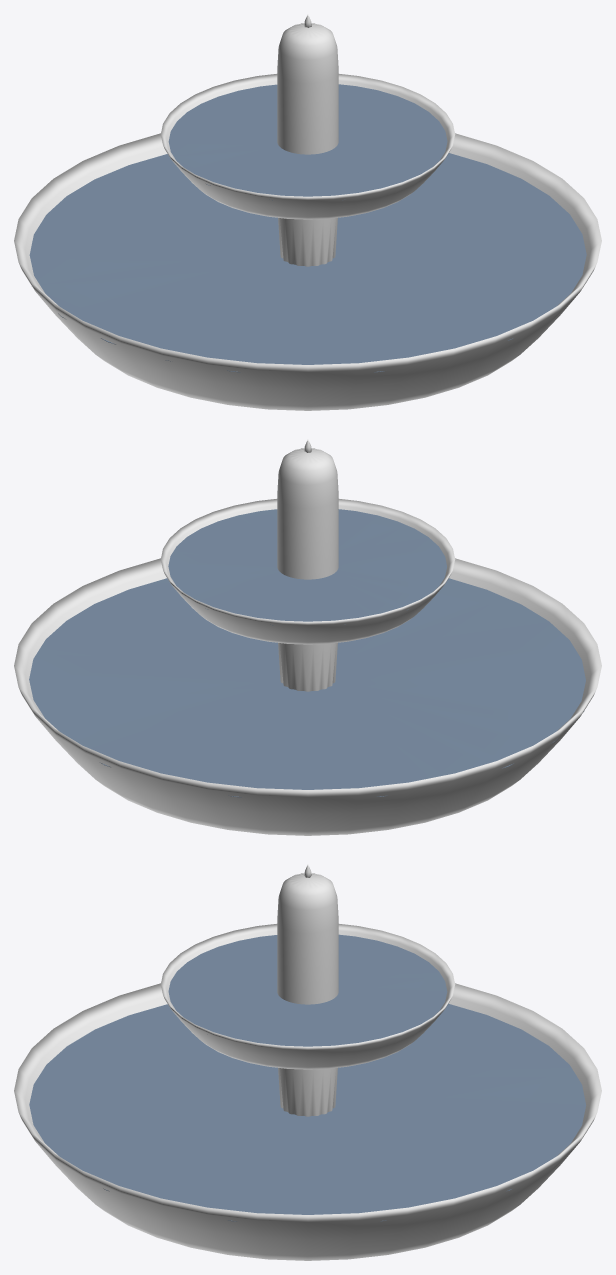
Rendered from fountain1.FBX.
The picture shows the model from 3 angles, top to bottom: view 1: azimuth 30°, elevation 25°; view 2: azimuth 150°, elevation 25°; view 3: azimuth 270°, elevation 25°; orthographic projection.
Visible parts, largest first — view 1: Water_Large, Fountain_Base, Water_Small; view 2: Water_Large, Fountain_Base, Water_Small; view 3: Water_Large, Fountain_Base, Water_Small.
Part boxes in pixels (box(x1,y1,x2,y2)): Water_Large: box(29, 153, 586, 372); Fountain_Base: box(14, 14, 601, 410); Water_Small: box(168, 84, 447, 200); Water_Large: box(29, 578, 585, 797); Fountain_Base: box(14, 439, 601, 835); Water_Small: box(168, 509, 446, 625); Water_Large: box(29, 1003, 586, 1221); Fountain_Base: box(14, 864, 601, 1260); Water_Small: box(168, 934, 447, 1046).
Size of the model in its own units: 29.01 by 16.2 by 29.01.
